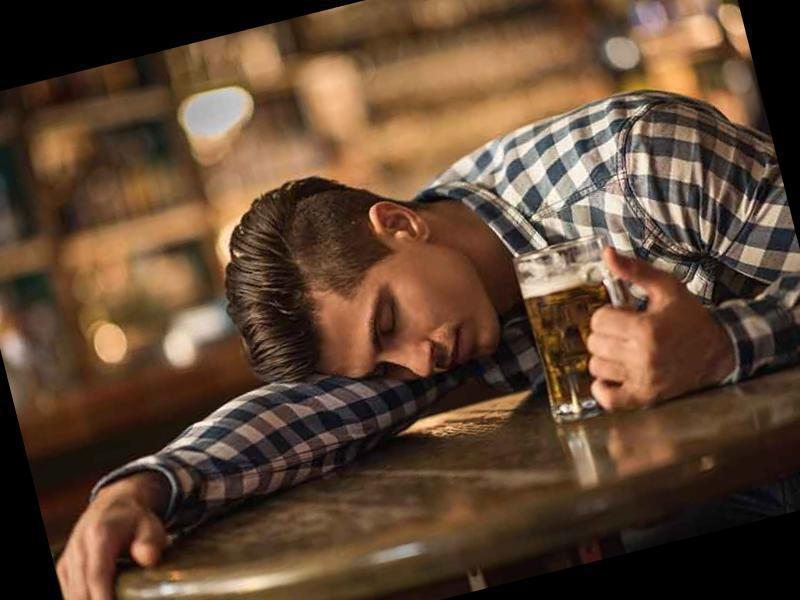Drunk: (298, 262, 503, 380)
